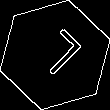L_SW: (26, 26, 84, 84)
